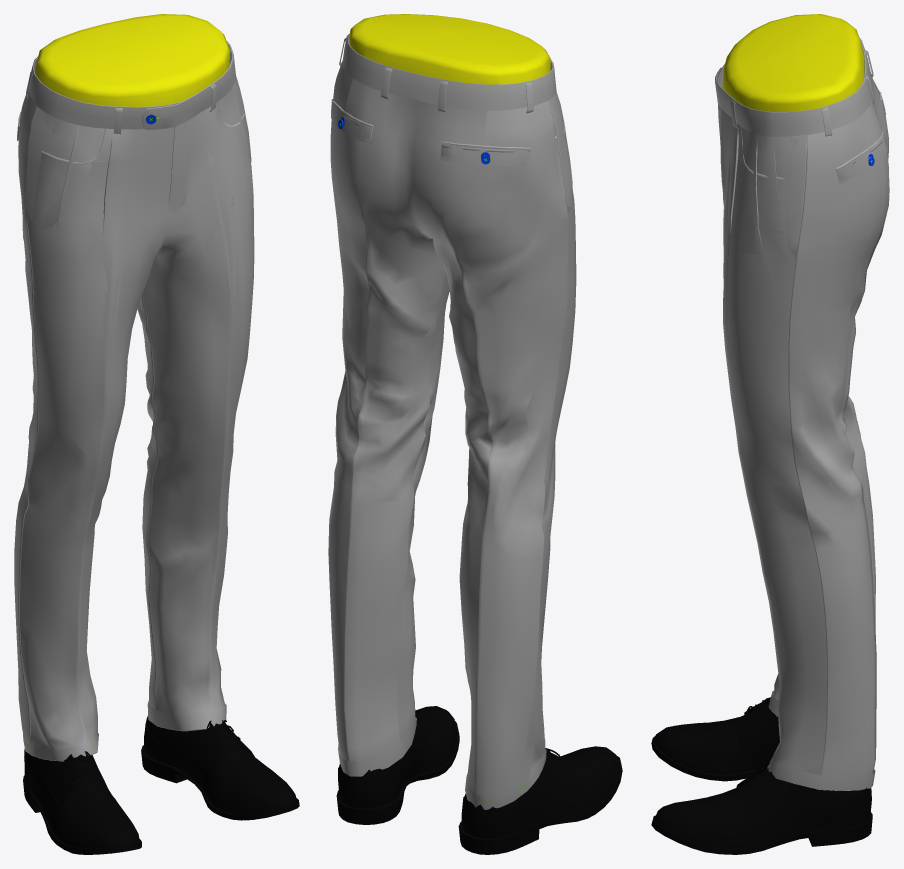
Rendered from xifu_x.fbx.
The picture shows the model from 3 angles, left to right: view 1: azimuth 30°, elevation 25°; view 2: azimuth 150°, elevation 25°; view 3: azimuth 270°, elevation 25°; orthographic projection. The views are drawn at different scales.
Visible parts, largest first — view 1: kuzizhuti, Lxingcadai_2, xiezi, jiazi_x, hengcadai_2, Lxingcadai_0, wukutoukou, xiecadai_2, fanjjiaokou, hengcadai_0, hengcadai_1; view 2: kuzizhuti, xiezi, jiazi_x, wukutoukou, Lxingcadai_2, fanjjiaokou, hengcadai_2, houdaidaigaisan, hougaidaigaiyuan, erzaizhidai; view 3: kuzizhuti, xiezi, jiazi_x, Lxingcadai_2, hengcadai_2, wukutoukou, xiecadai_2, Lxingcadai_0, fanjjiaokou, hengcadai_0, houdaidaigaifang, erzaizhidai.
Boxes of the visible parts, x1=… form: kuzizhuti: x1=14, y1=89, x2=242, y2=748; Lxingcadai_2: x1=28, y1=63, x2=254, y2=438; xiezi: x1=23, y1=716, x2=299, y2=854; jiazi_x: x1=34, y1=14, x2=230, y2=106; hengcadai_2: x1=25, y1=81, x2=254, y2=417; Lxingcadai_0: x1=79, y1=129, x2=253, y2=427; wukutoukou: x1=29, y1=41, x2=235, y2=129; xiecadai_2: x1=44, y1=76, x2=251, y2=437; fanjjiaokou: x1=23, y1=700, x2=226, y2=761; hengcadai_0: x1=81, y1=153, x2=253, y2=260; hengcadai_1: x1=58, y1=86, x2=239, y2=259; kuzizhuti: x1=328, y1=61, x2=568, y2=795; xiezi: x1=336, y1=706, x2=622, y2=854; jiazi_x: x1=349, y1=14, x2=550, y2=84; wukutoukou: x1=342, y1=33, x2=556, y2=110; Lxingcadai_2: x1=429, y1=100, x2=576, y2=418; fanjjiaokou: x1=338, y1=717, x2=546, y2=809; hengcadai_2: x1=548, y1=92, x2=572, y2=378; houdaidaigaisan: x1=331, y1=99, x2=530, y2=165; hougaidaigaiyuan: x1=331, y1=108, x2=529, y2=166; erzaizhidai: x1=339, y1=37, x2=533, y2=113; kuzizhuti: x1=735, y1=60, x2=889, y2=776; xiezi: x1=651, y1=697, x2=872, y2=854; jiazi_x: x1=722, y1=14, x2=864, y2=111; Lxingcadai_2: x1=718, y1=104, x2=807, y2=441; hengcadai_2: x1=736, y1=124, x2=806, y2=438; wukutoukou: x1=715, y1=37, x2=872, y2=136; xiecadai_2: x1=723, y1=136, x2=783, y2=406; Lxingcadai_0: x1=723, y1=152, x2=754, y2=362; fanjjiaokou: x1=767, y1=690, x2=875, y2=790; hengcadai_0: x1=732, y1=196, x2=757, y2=309; houdaidaigaifang: x1=837, y1=92, x2=888, y2=184; erzaizhidai: x1=730, y1=50, x2=874, y2=136.
Size of the model in its own units: 36.59 by 118 by 33.93.
